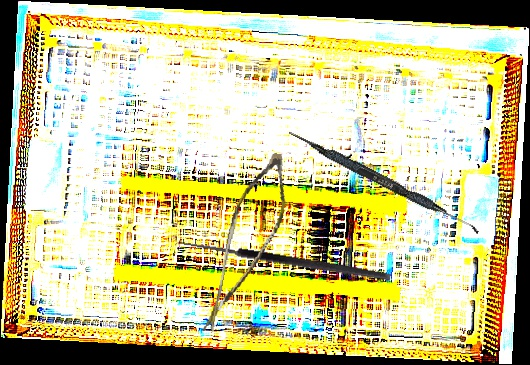Hook Surgical: (172, 237, 392, 292)
Micro Scissor: (200, 145, 295, 347)
Spatula Surgical: (284, 128, 484, 235)
